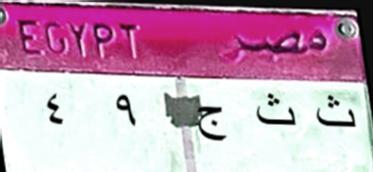4: (42, 86, 70, 132)
9: (112, 88, 139, 139)
jeem: (194, 100, 232, 146)
thaa: (310, 86, 358, 137), (251, 90, 300, 133)
